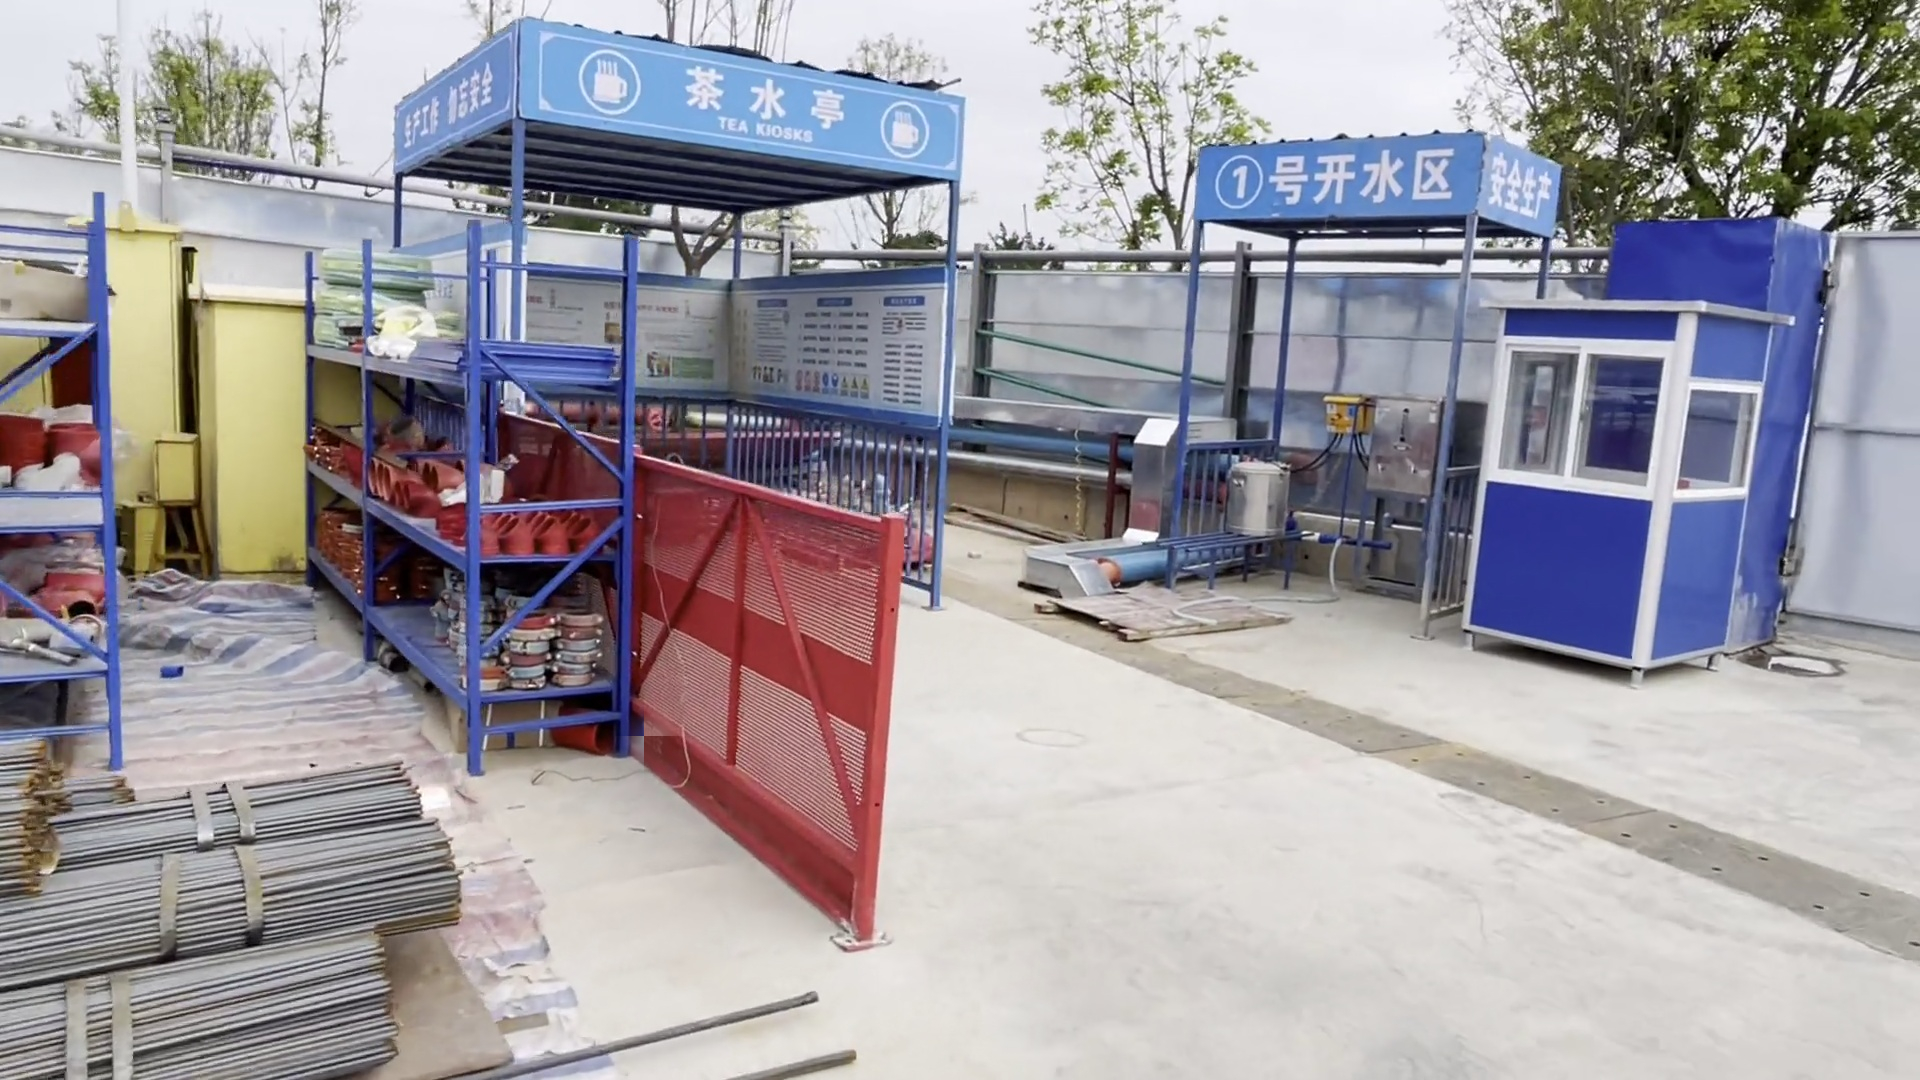ebox: (94, 227, 313, 575), (1329, 396, 1366, 436)
fence: (618, 450, 899, 963)
rebar: (1, 735, 446, 1080)
slogan: (392, 26, 524, 175), (1472, 135, 1555, 239)
